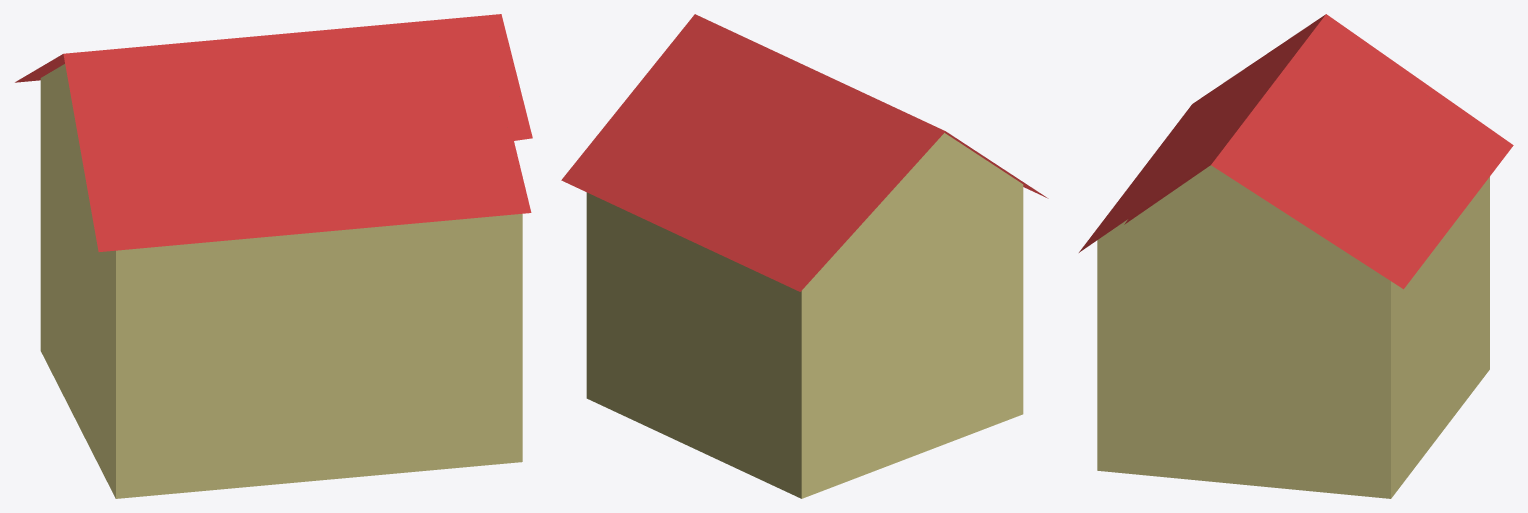
The picture shows the model from 3 angles, left to right: view 1: azimuth 30°, elevation 25°; view 2: azimuth 150°, elevation 25°; view 3: azimuth 270°, elevation 25°; orthographic projection. The views are drawn at different scales.
Bounding box in the file's own units: 17.71 × 17.34 × 14.27.
